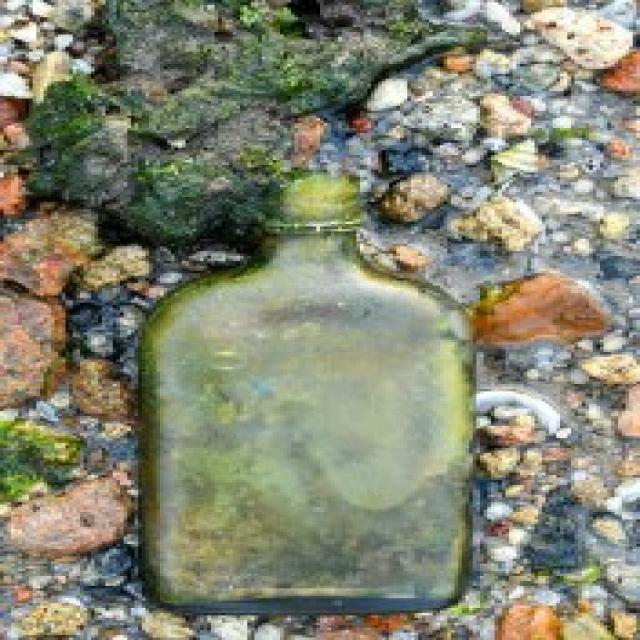electronic: (130, 173, 485, 618)
